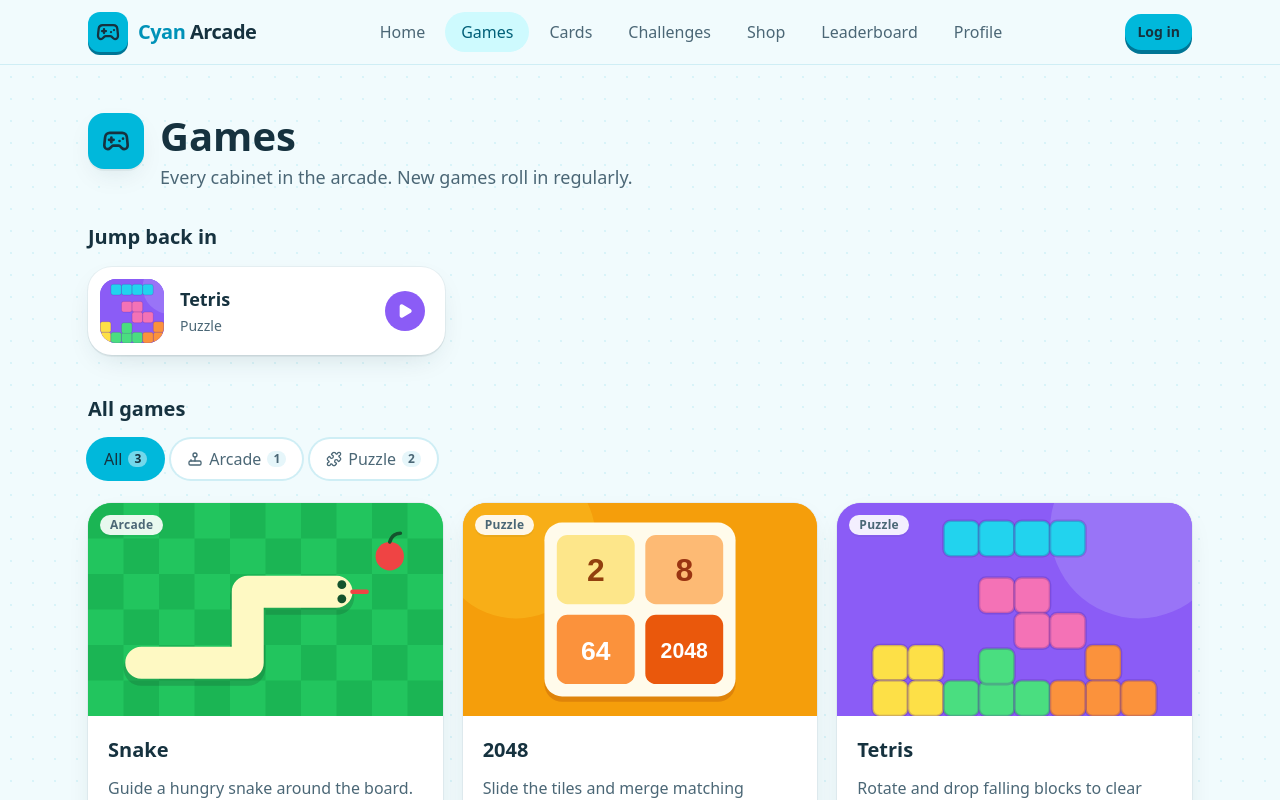
Test: browsing the catalog by category › offers recently played games above the catalog, but not while filtering
Click the button "Arcade 1": (237, 459) [171,439,302,479]
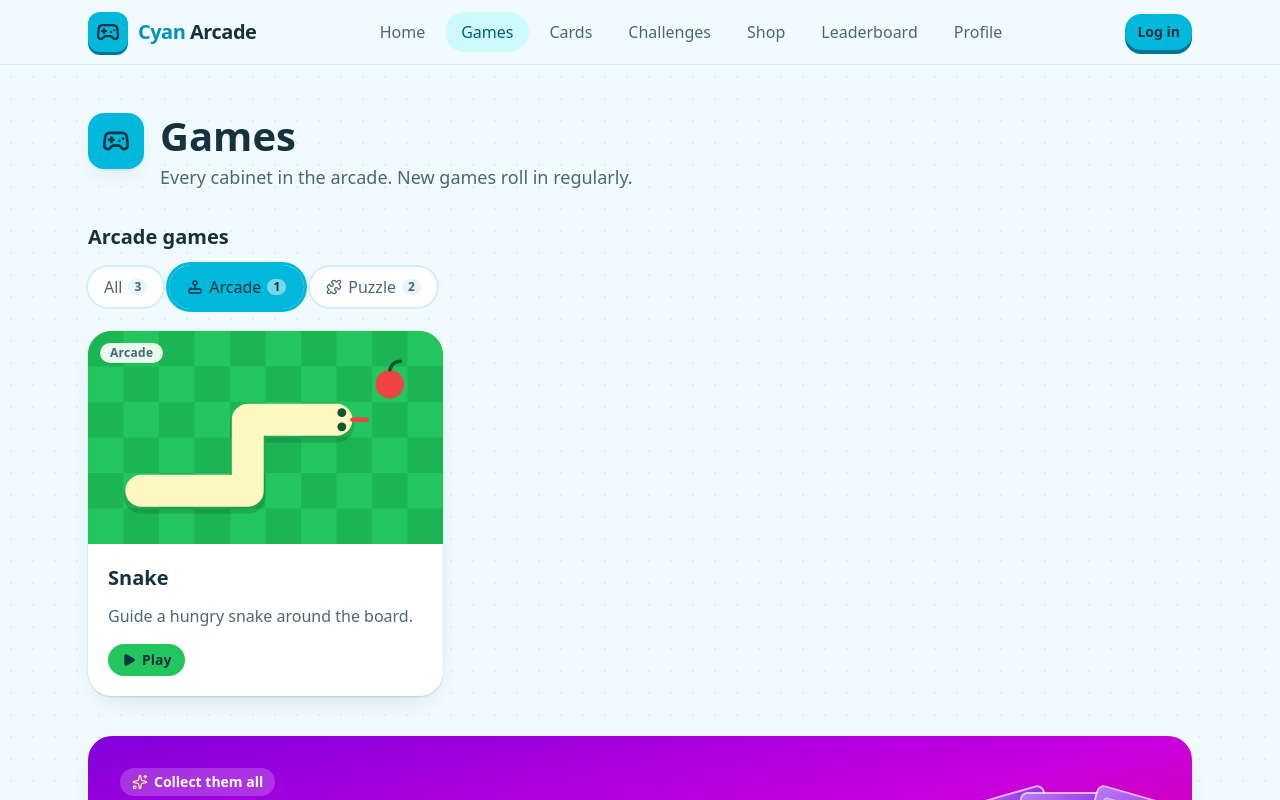
Expected: the heading "Jump back in" is gone
